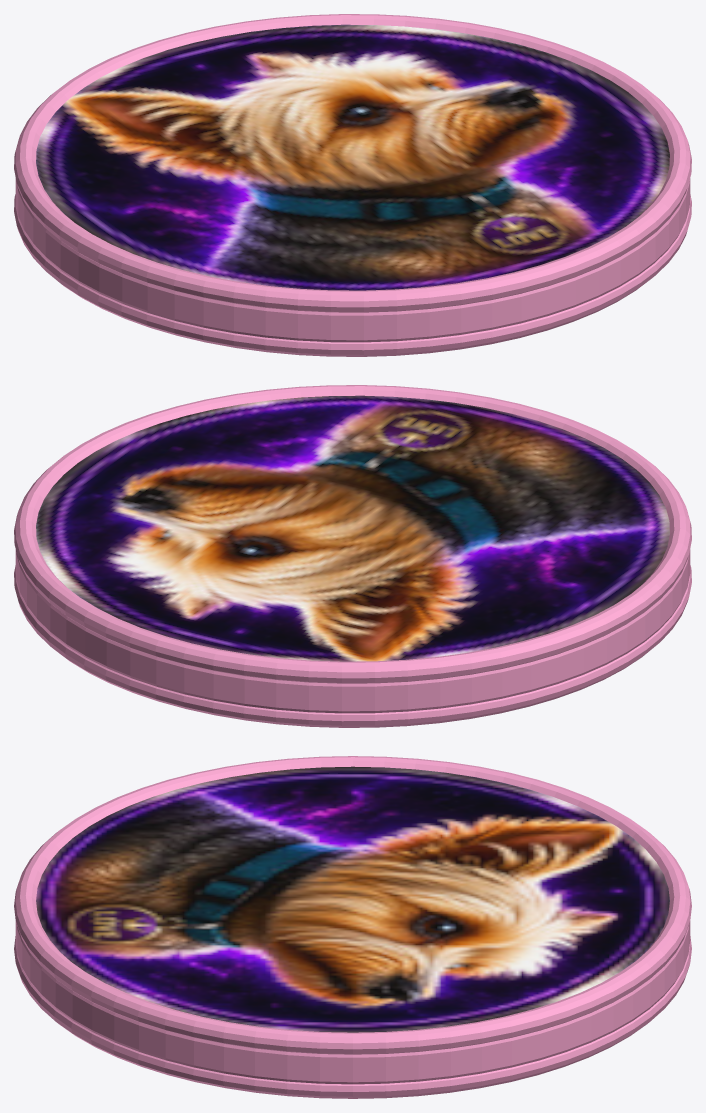
Rendered from coin-love.glb.
3 views of the same model, one above another, from view 1: azimuth 30°, elevation 25°; view 2: azimuth 150°, elevation 25°; view 3: azimuth 270°, elevation 25° (orthographic).
Visible parts, largest first — view 1: FaceDiscFront, Rim, Coin_love, Rim.001; view 2: FaceDiscFront, Rim, Coin_love, Rim.001; view 3: FaceDiscFront, Rim, Coin_love, Rim.001.
Boxes of the visible parts, x1,y1,x2,y2 form: FaceDiscFront: (36,24,669,290); Rim: (14,14,691,312); Coin_love: (15,178,690,342); Rim.001: (14,194,691,356); FaceDiscFront: (36,395,669,661); Rim: (14,385,691,683); Coin_love: (15,549,690,713); Rim.001: (14,565,691,727); FaceDiscFront: (36,766,669,1032); Rim: (14,756,691,1054); Coin_love: (15,921,690,1084); Rim.001: (14,936,691,1098).
Bounding box in the file's own units: 2.01 × 0.21 × 2.01.
2 materials, 1 textured.
